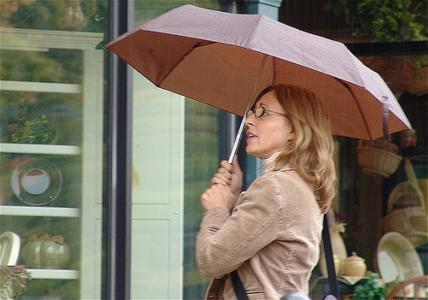person: (195, 83, 338, 300)
